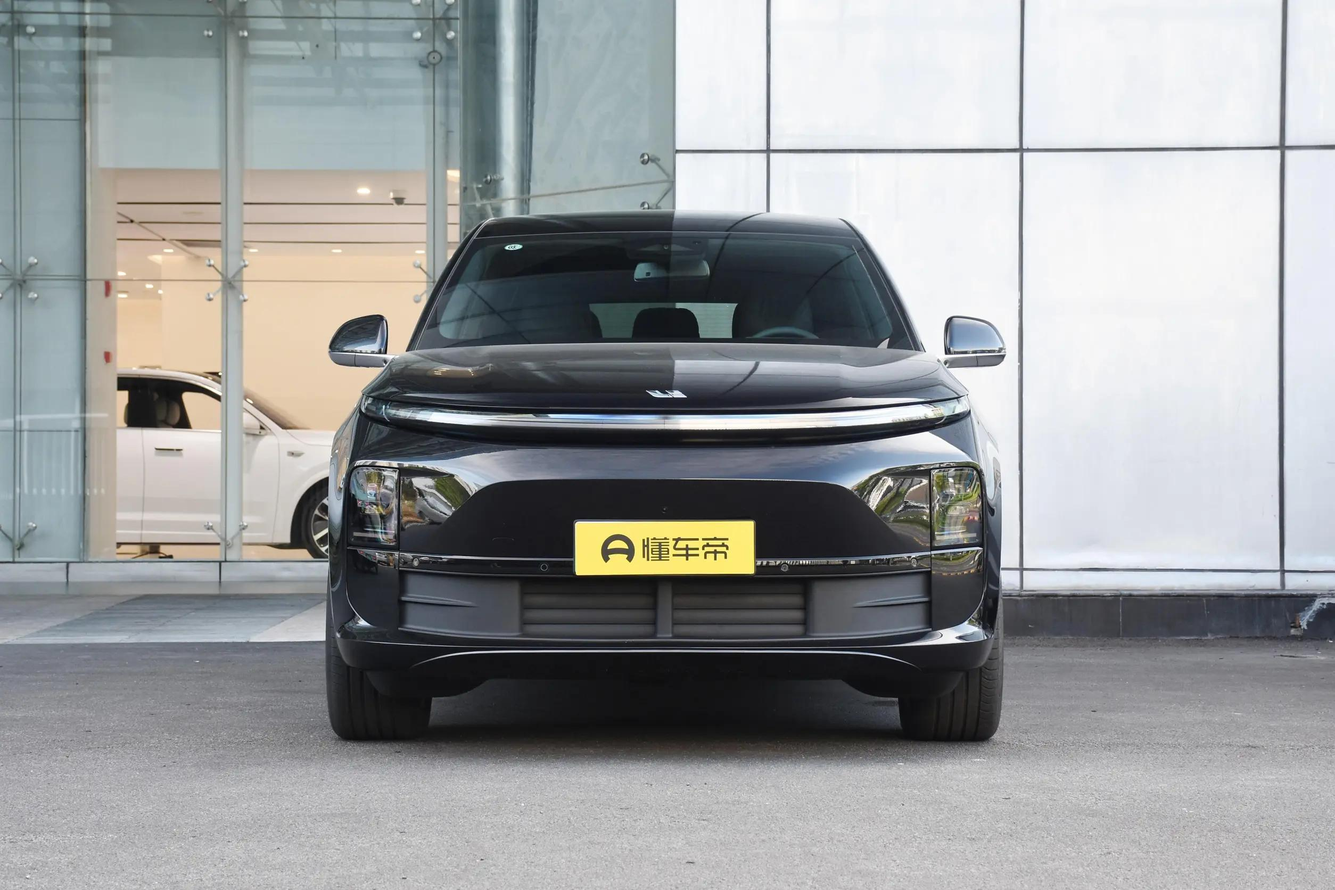Li Auto: (647, 389, 687, 398)
